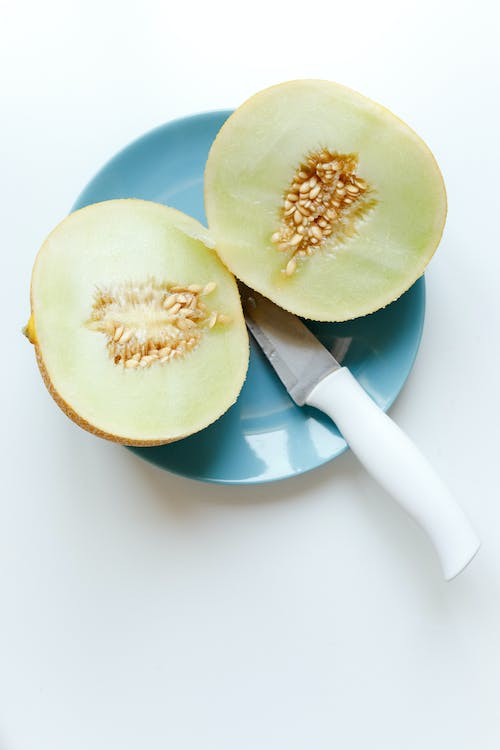knife: (234, 275, 483, 586)
